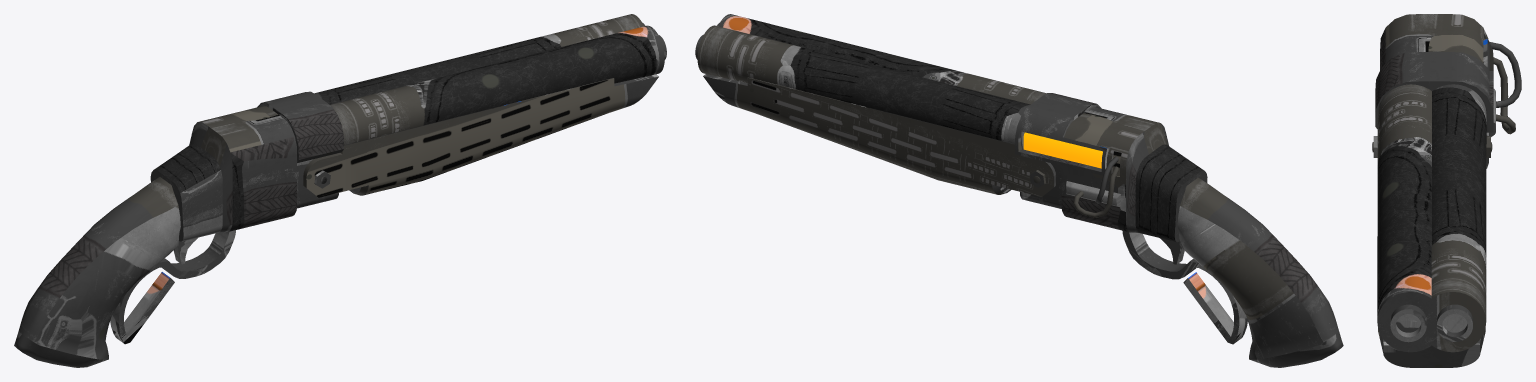
The model's file is wm_sf_doubletrouble.fbx.
3 renders of one model, left to right at view 1: azimuth 30°, elevation 25°; view 2: azimuth 150°, elevation 25°; view 3: azimuth 270°, elevation 25°, orthographic. The views are drawn at different scales.
Visible parts, largest first — view 1: DT_LOD0; view 2: DT_LOD0; view 3: DT_LOD0.
Part boxes in pixels (x1,y1,x2,y2): DT_LOD0: (14,14,666,367); DT_LOD0: (695,14,1343,367); DT_LOD0: (1372,14,1521,367).
Size of what is drawn, in the model's own units: 313 by 97.81 by 47.59.
